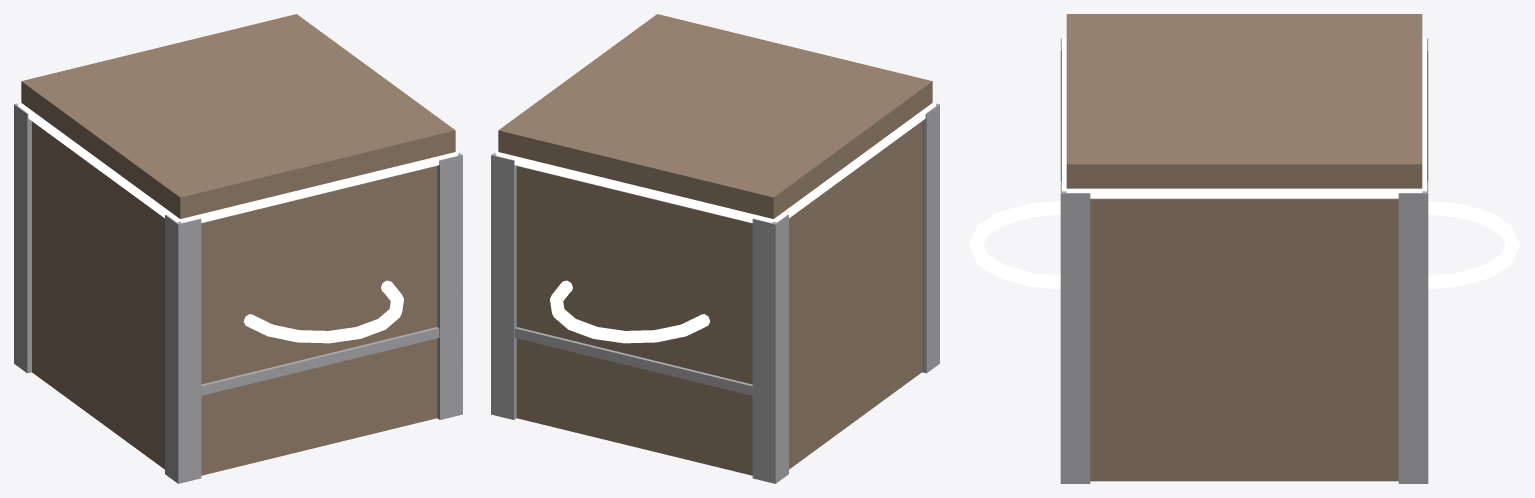
The model's file is crate_legendary.glb.
3 renders of one model, left to right at view 1: azimuth 30°, elevation 25°; view 2: azimuth 150°, elevation 25°; view 3: azimuth 270°, elevation 25°, orthographic. The views are drawn at different scales.
Visible parts, largest first — view 1: crate_body, lid_q3, lid_q4, lid_q1, lid_q2, seam_back, seam_left; view 2: crate_body, lid_q1, lid_q2, lid_q3, lid_q4, seam_front, seam_left; view 3: crate_body, lid_q2, lid_q4, lid_q1, lid_q3, seam_right, seam_back, seam_front.
Part boxes in pixels (left/top/right/bottom): crate_body: left=14, top=103, right=462, bottom=483; lid_q3: left=100, top=106, right=317, bottom=218; lid_q4: left=239, top=72, right=455, bottom=185; lid_q1: left=21, top=47, right=237, bottom=160; lid_q2: left=159, top=14, right=375, bottom=105; seam_back: left=180, top=152, right=457, bottom=222; seam_left: left=18, top=103, right=180, bottom=222; crate_body: left=491, top=103, right=939, bottom=483; lid_q1: left=636, top=106, right=853, bottom=218; lid_q2: left=498, top=72, right=714, bottom=185; lid_q3: left=716, top=47, right=932, bottom=160; lid_q4: left=578, top=14, right=794, bottom=105; seam_front: left=496, top=152, right=773, bottom=222; seam_left: left=773, top=103, right=935, bottom=222; crate_body: left=968, top=38, right=1520, bottom=483; lid_q2: left=1244, top=89, right=1422, bottom=188; lid_q4: left=1066, top=89, right=1244, bottom=188; lid_q1: left=1244, top=14, right=1422, bottom=89; lid_q3: left=1066, top=14, right=1244, bottom=89; seam_right: left=1066, top=188, right=1422, bottom=198; seam_back: left=1062, top=38, right=1066, bottom=191; seam_front: left=1422, top=38, right=1426, bottom=191.
Bounding box in the file's own units: 1.24 × 1.18 × 1.86.
